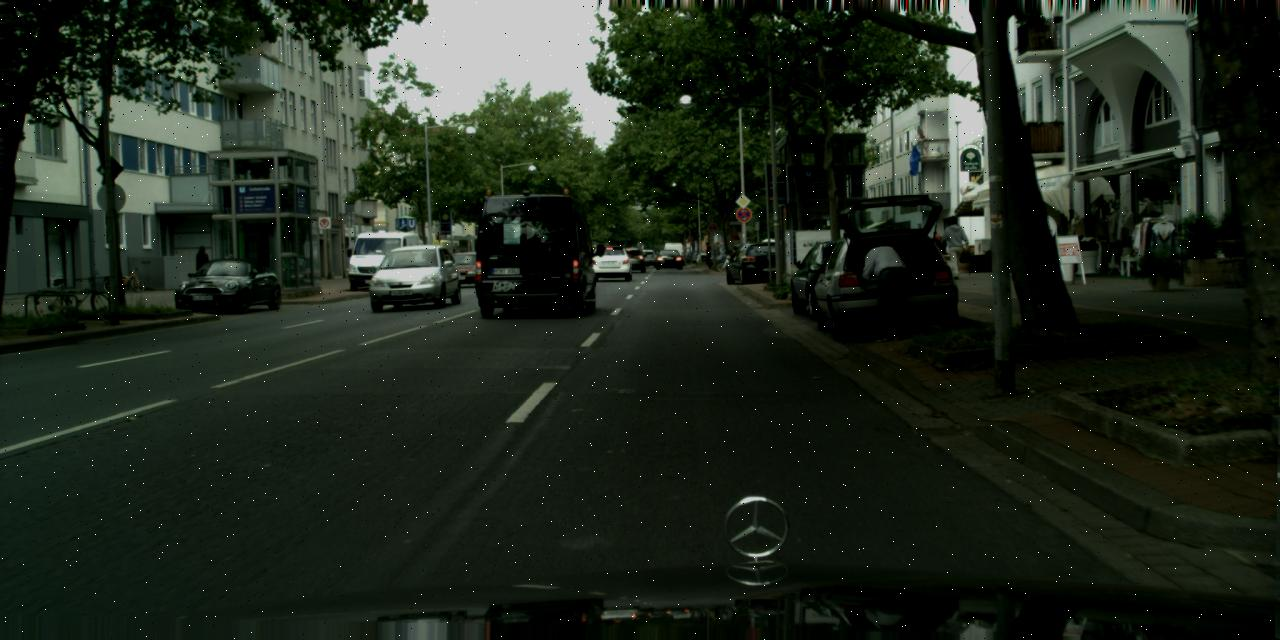ped: (942, 215, 966, 277), (193, 245, 210, 288), (703, 242, 713, 268), (918, 129, 928, 154)
